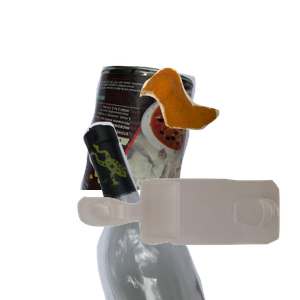glass: (81, 120, 300, 300)
metal: (78, 63, 266, 243)
plastic: (75, 176, 300, 300)
trash: (137, 65, 300, 188)
